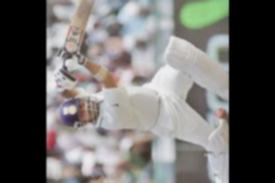batsman: (55, 0, 222, 183)
